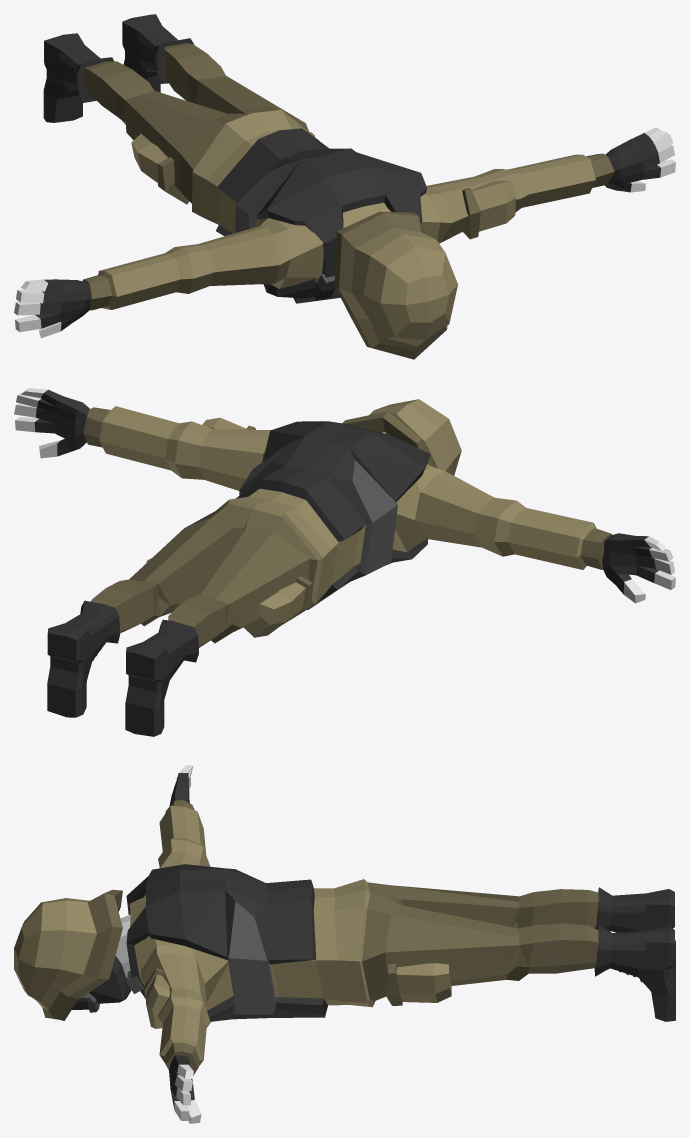
Rendered from SoldierNeutral.fbx.
3 views of the same model, one above another, from view 1: azimuth 30°, elevation 25°; view 2: azimuth 150°, elevation 25°; view 3: azimuth 270°, elevation 25° (orthographic).
Visible parts, largest first — view 1: Soldat; view 2: Soldat; view 3: Soldat.
Part boxes in pixels (<box>): Soldat: <box>14,14,675,359</box>; Soldat: <box>14,388,675,736</box>; Soldat: <box>14,765,675,1123</box>.
Size of the model in its own units: 3693 by 761 by 3238.
